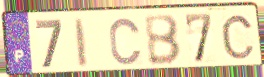7: (33, 18, 65, 71), (183, 12, 214, 66)
B: (143, 13, 183, 67)
C: (108, 17, 144, 68), (219, 13, 257, 61)
I: (73, 17, 90, 70)
